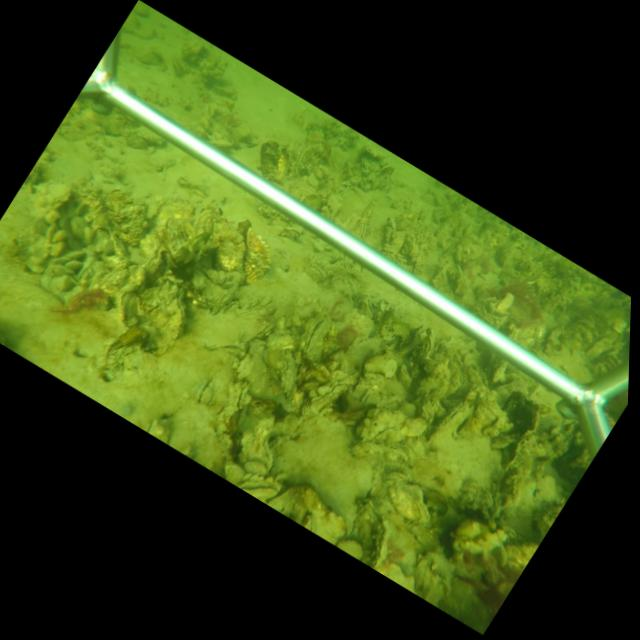Oyster-Closed: (139, 279, 189, 357), (298, 382, 351, 427), (428, 406, 474, 446), (297, 316, 333, 365), (178, 175, 212, 201), (78, 261, 107, 288)
Oyster-Indeterminate: (347, 492, 393, 568), (379, 472, 433, 526), (153, 196, 198, 239), (342, 338, 385, 375), (94, 265, 130, 296)
Oyster-Open: (236, 476, 279, 498), (193, 378, 215, 407)
